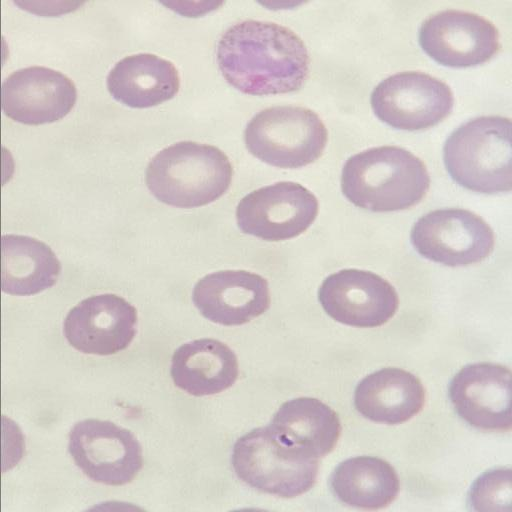Infected: (216, 19, 307, 94)
Uninfected: (147, 141, 233, 207), (341, 145, 427, 210), (234, 432, 316, 496), (244, 104, 325, 166), (235, 181, 318, 241), (68, 418, 142, 484), (317, 267, 397, 328), (411, 207, 491, 266), (371, 70, 451, 128), (192, 268, 271, 326), (64, 293, 136, 355), (420, 8, 498, 65), (0, 65, 74, 124), (169, 337, 240, 396), (353, 366, 423, 424), (449, 363, 509, 429), (106, 52, 177, 106), (273, 397, 338, 454), (332, 456, 395, 508)
